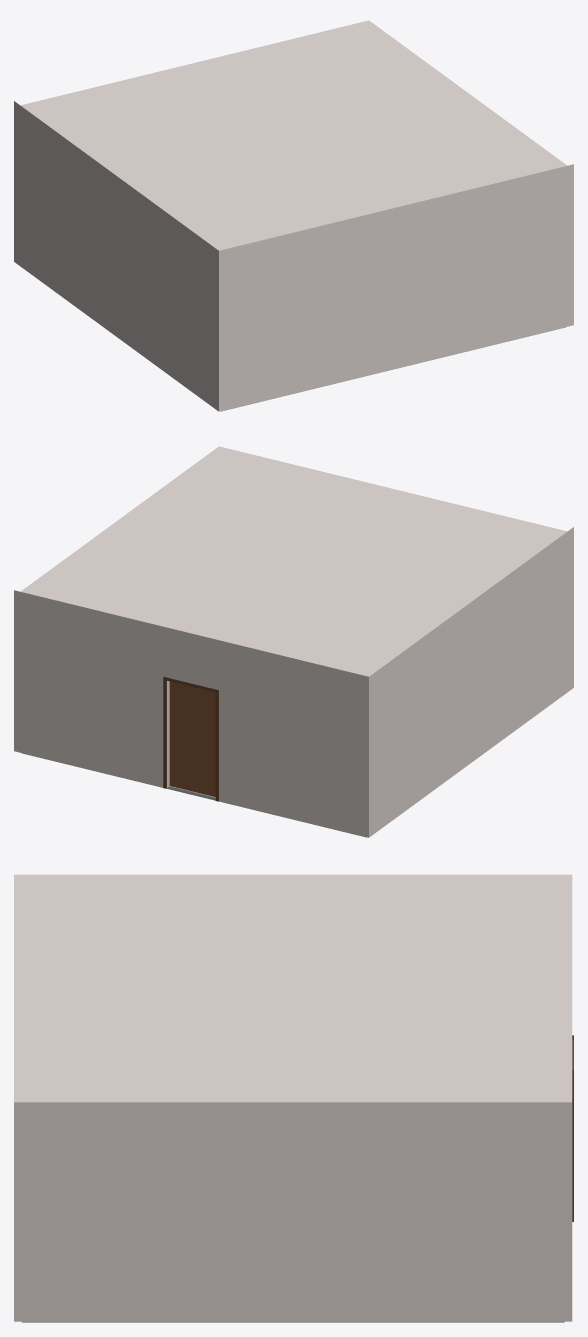
File: room_bath1.glb
3 views of the same model, one above another, from view 1: azimuth 30°, elevation 25°; view 2: azimuth 150°, elevation 25°; view 3: azimuth 270°, elevation 25° (orthographic). The views are drawn at different scales.
Visible parts, largest first — view 1: WALLS, CEILING; view 2: WALLS, CEILING, DOOR_bed, FRAMES; view 3: CEILING, WALLS, FLOOR_visible.
Part boxes in pixels (x1,y1,x2,y2): WALLS: (14, 107, 573, 411); CEILING: (14, 20, 573, 256); WALLS: (14, 533, 573, 837); CEILING: (14, 446, 573, 682); DOOR_bed: (170, 681, 215, 796); FRAMES: (163, 677, 218, 801); CEILING: (14, 874, 572, 1110); WALLS: (14, 1110, 572, 1321); FLOOR_visible: (21, 1321, 564, 1322).
Size of the model in its own units: 7.2 by 3.18 by 7.22.
